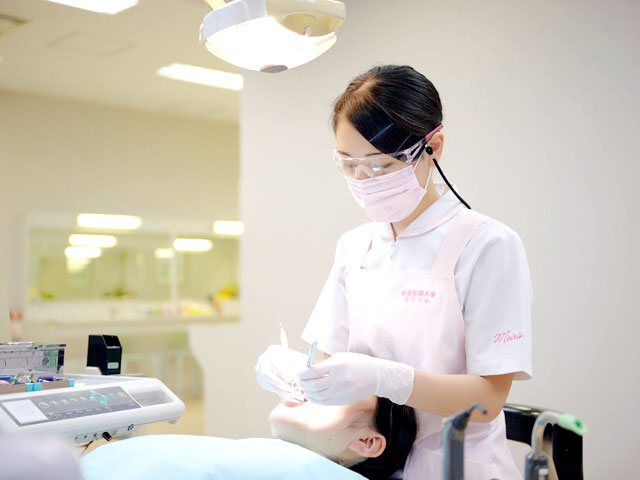mask: (344, 167, 429, 221)
